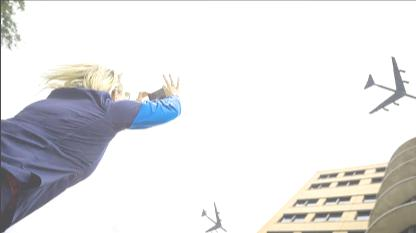B2: (362, 56, 415, 115), (198, 201, 227, 232)
